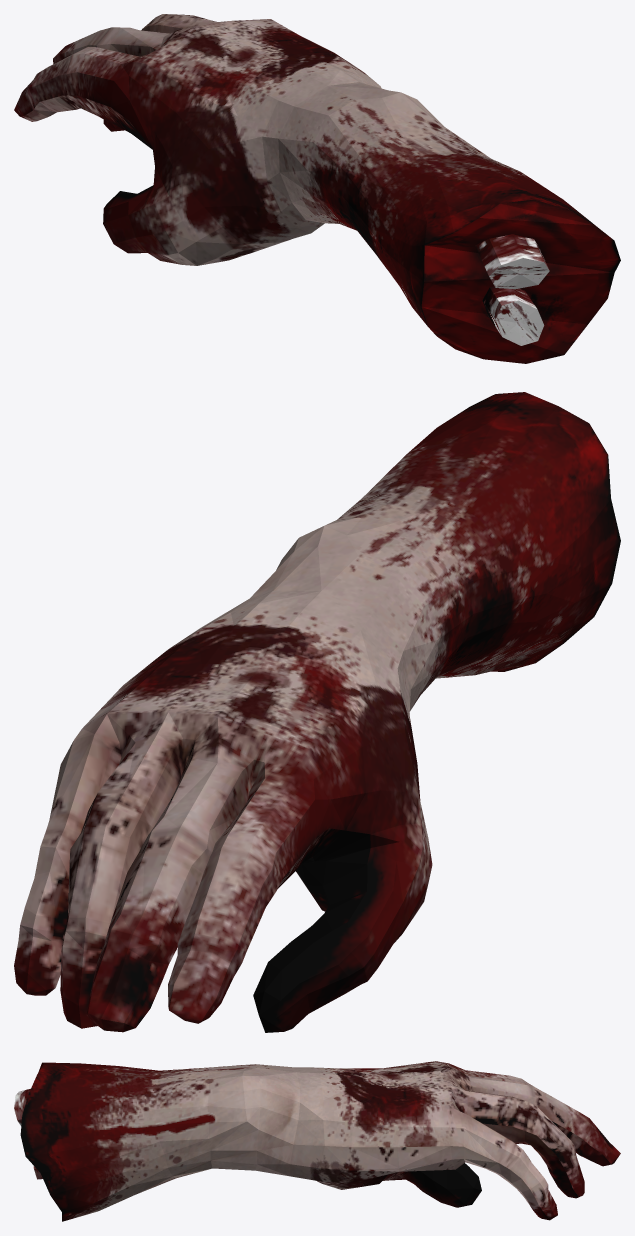
The model's file is Hunk of Meat (DR2).obj.
3 views of the same model, one above another, from view 1: azimuth 30°, elevation 25°; view 2: azimuth 150°, elevation 25°; view 3: azimuth 270°, elevation 25° (orthographic). The views are drawn at different scales.
Visible parts, largest first — view 1: Mesh_0719.rip_Tex_027; view 2: Mesh_0719.rip_Tex_027; view 3: Mesh_0719.rip_Tex_027.
Part boxes in pixels (x1,y1,x2,y2): Mesh_0719.rip_Tex_027: (14, 14, 620, 363); Mesh_0719.rip_Tex_027: (14, 392, 620, 1032); Mesh_0719.rip_Tex_027: (14, 1061, 620, 1221).
Size of the model in its own units: 0.122 by 0.115 by 0.367.
